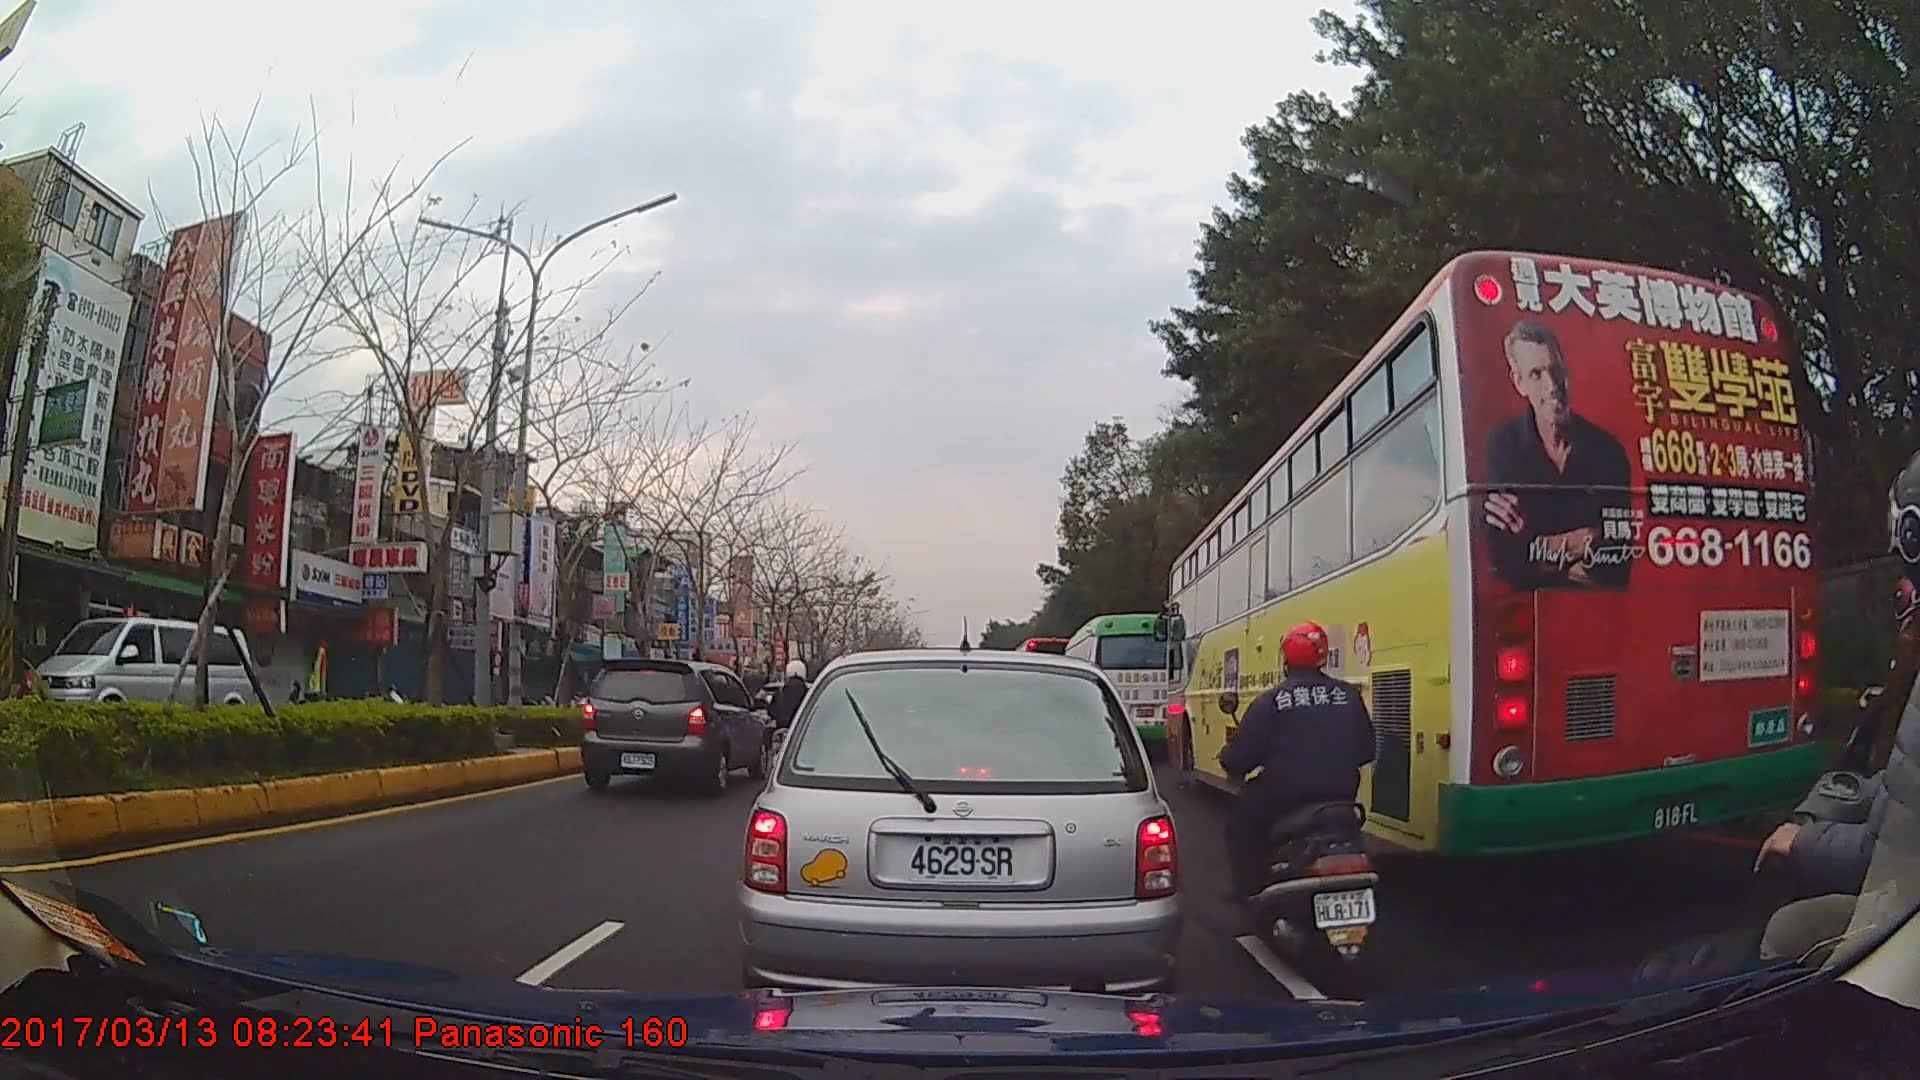rider: (1745, 449, 1920, 1068), (1215, 617, 1391, 977), (1818, 576, 1920, 878), (767, 661, 824, 782)
vehicle: (1165, 247, 1829, 864), (741, 648, 1181, 1011), (30, 616, 251, 746), (579, 660, 769, 793), (1059, 612, 1181, 756)
